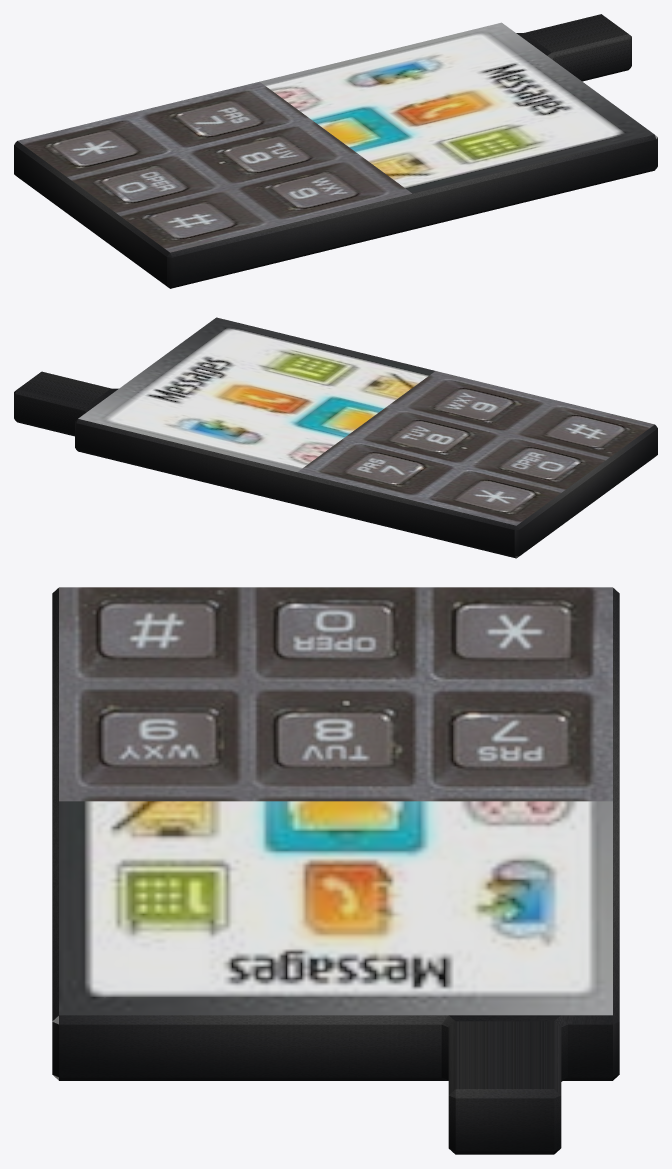
The model's file is telephone.FBX.
The picture shows the model from 3 angles, top to bottom: view 1: azimuth 30°, elevation 25°; view 2: azimuth 150°, elevation 25°; view 3: azimuth 270°, elevation 25°; orthographic projection. The views are drawn at different scales.
Parts seen in each view (by area): view 1: Boîte001; view 2: Boîte001; view 3: Boîte001.
Part boxes in pixels (<box>): Boîte001: <box>14,14,657,288</box>; Boîte001: <box>14,317,657,558</box>; Boîte001: <box>52,587,619,1154</box>.
Size of the model in its own units: 34.39 by 2.07 by 16.25.
Materials: 6 (3 with a texture image).
